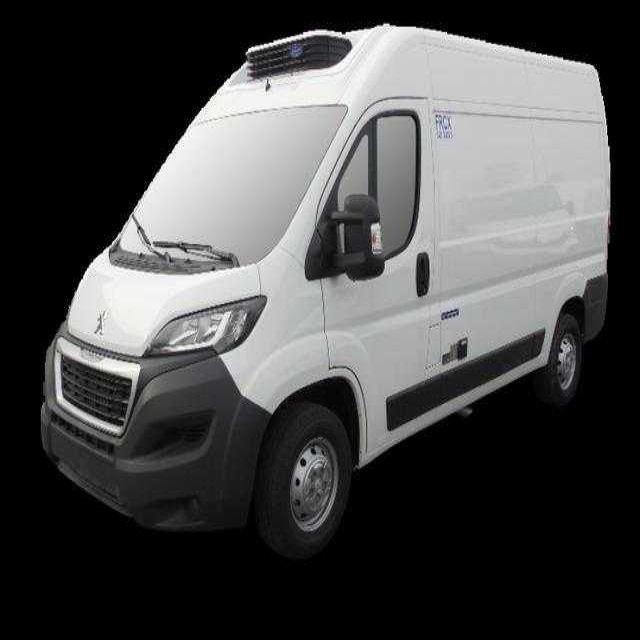Van: (40, 24, 611, 559)
